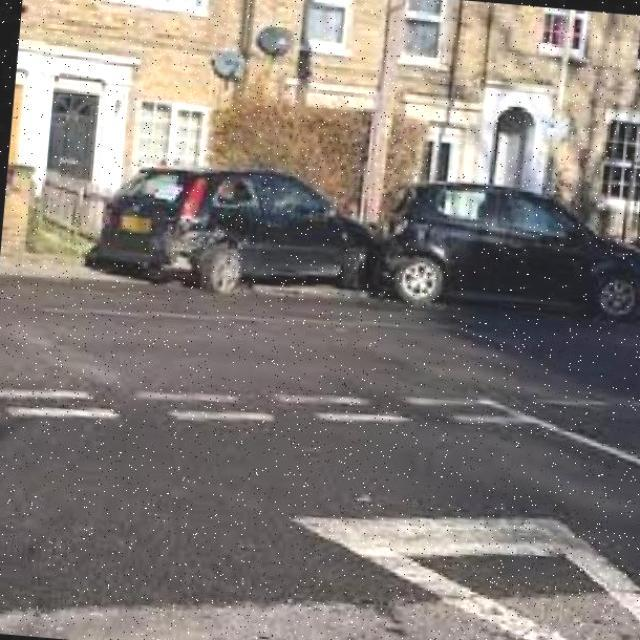accident: (96, 151, 640, 342)
